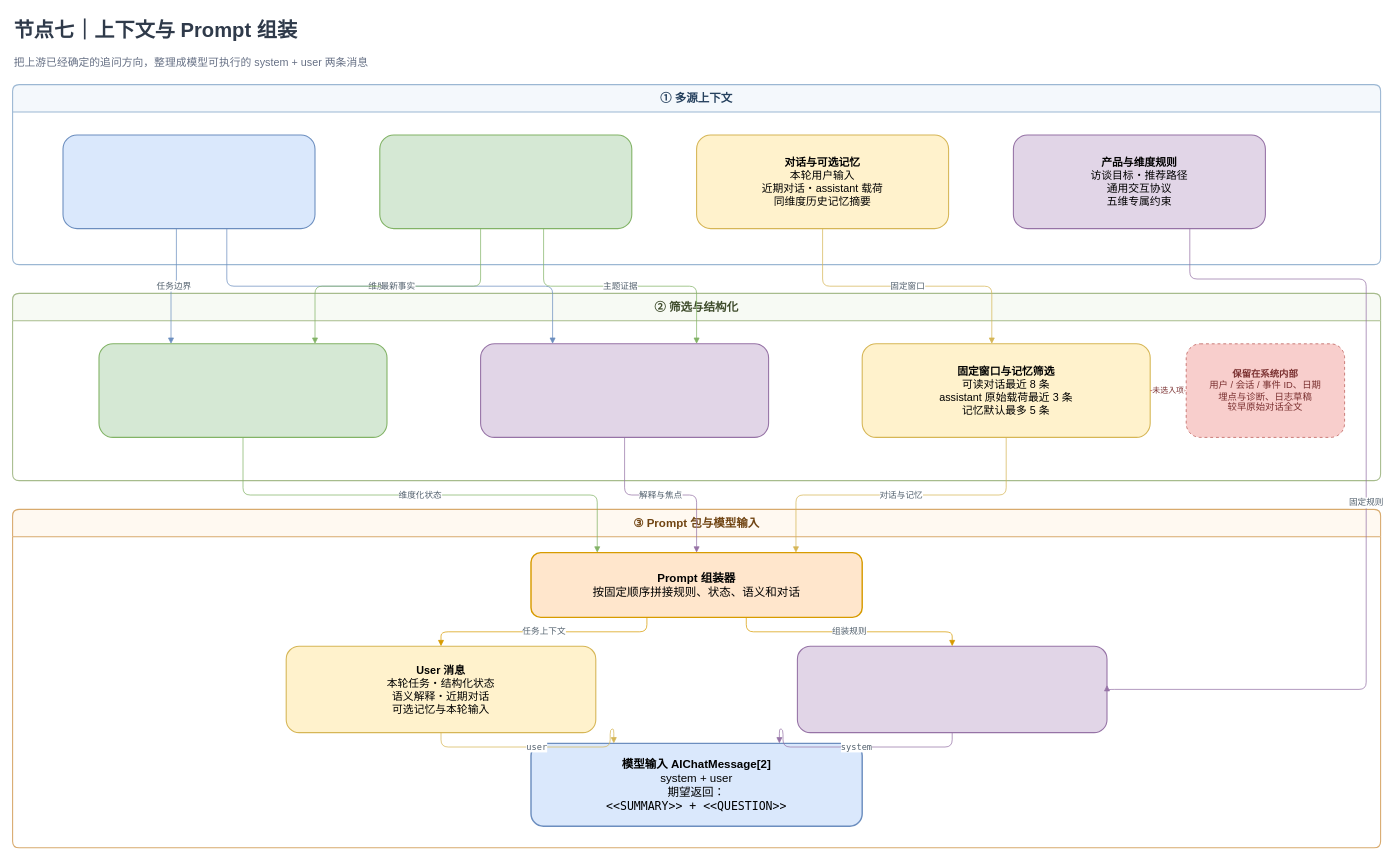
The diagram is 1396 pixels wide and 860 high, and some of its shapes have lost their labels. Here are the shapes that lost their labels. From the top down, the centre of each, then its label:
At [188,181]: "控制状态 维度・动作・阶段 questionSpec・轮次 深度与覆盖视角".
At [505,181]: "事件状态 当前事件最新快照 全部事件摘要 探索轮次与事件状态".
At [242,390]: "维度化状态投影 把内部快照转换为 开心 / 充实 / 思考 / 改进 / 感谢 各自的字段表达".
At [624,390]: "服务端语义解释 主题・成立原因・追问焦点 问题提示・防写平目标 由确定性规则生成".
At [952,689]: "System 消息 访谈者身份・目标与路径 通用及五维规则 输出协议与表达边界".
